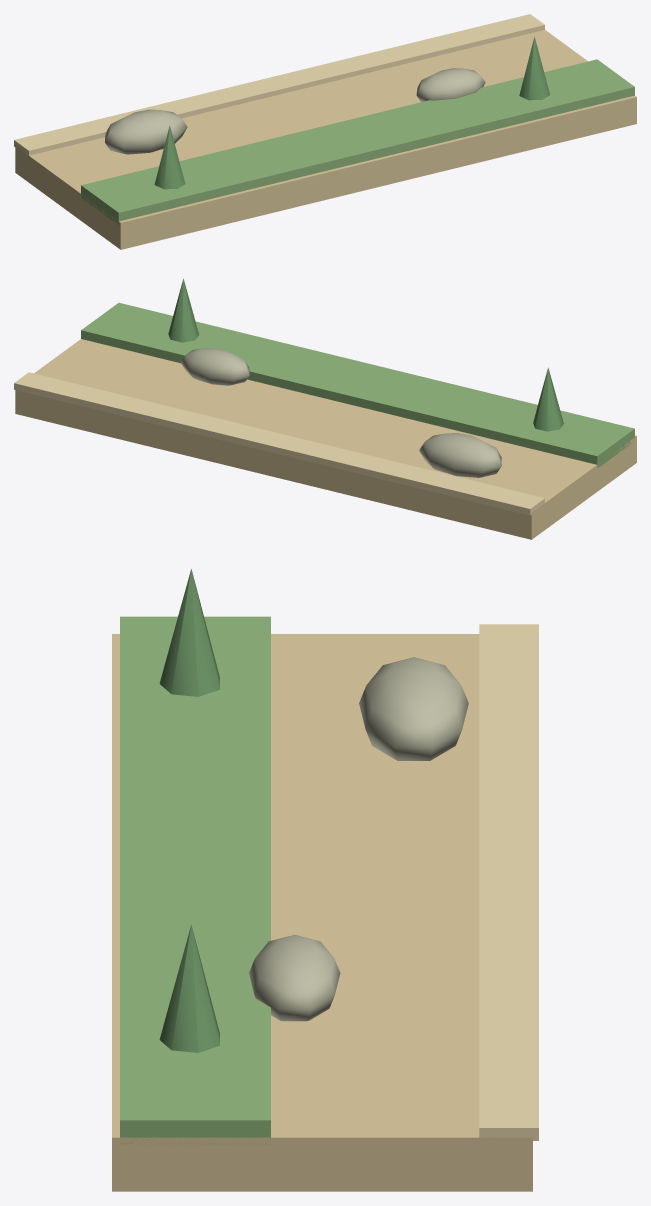
File: shore-straight.glb
3 renders of one model, top to bottom at view 1: azimuth 30°, elevation 25°; view 2: azimuth 150°, elevation 25°; view 3: azimuth 270°, elevation 25°, orthographic. The views are drawn at different scales.
Parts seen in each view (by area): view 1: shore-straight_sand, shore-straight_grass, shore-straight_sandLight, shore-straight_stone, shore-straight_grassDark; view 2: shore-straight_sand, shore-straight_grass, shore-straight_sandLight, shore-straight_stone, shore-straight_grassDark; view 3: shore-straight_sand, shore-straight_grass, shore-straight_sandLight, shore-straight_stone, shore-straight_grassDark.
Part boxes in pixels (<box>): shore-straight_sand: <box>15,30,636,249</box>; shore-straight_grass: <box>81,59,634,224</box>; shore-straight_sandLight: <box>14,14,544,156</box>; shore-straight_stone: <box>105,68,485,154</box>; shore-straight_grassDark: <box>154,36,550,189</box>; shore-straight_sand: <box>15,339,636,539</box>; shore-straight_grass: <box>81,302,634,468</box>; shore-straight_sandLight: <box>14,372,544,515</box>; shore-straight_stone: <box>180,347,501,477</box>; shore-straight_grassDark: <box>168,278,563,431</box>; shore-straight_sand: <box>112,634,532,1191</box>; shore-straight_grass: <box>120,616,270,1145</box>; shore-straight_sandLight: <box>479,624,538,1140</box>; shore-straight_stone: <box>249,657,468,1021</box>; shore-straight_grassDark: <box>159,569,219,1052</box>.
Bounding box in the file's own units: 1.5 × 0.2595 × 0.5375.
